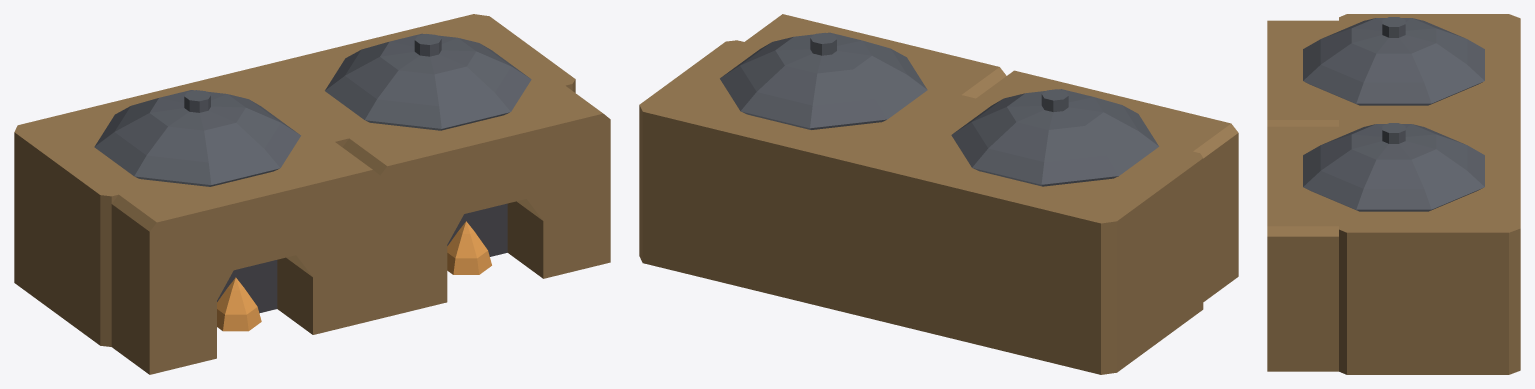
The model's file is fn_stove.glb.
3 views of the same model, side by side, from view 1: azimuth 30°, elevation 25°; view 2: azimuth 150°, elevation 25°; view 3: azimuth 270°, elevation 25° (orthographic). The views are drawn at different scales.
Parts seen in each view (by area): view 1: fn_stove__earth, fn_stove__metal, fn_stove__lantern, fn_stove__stone_dark; view 2: fn_stove__earth, fn_stove__metal; view 3: fn_stove__earth, fn_stove__metal.
Boxes of the visible parts, box(x1,y1,x2,y2) form: fn_stove__earth: box(14, 14, 610, 374); fn_stove__metal: box(94, 33, 531, 186); fn_stove__lantern: box(217, 221, 491, 331); fn_stove__stone_dark: box(217, 203, 507, 313); fn_stove__earth: box(639, 14, 1238, 374); fn_stove__metal: box(720, 32, 1158, 186); fn_stove__earth: box(1267, 14, 1520, 374); fn_stove__metal: box(1303, 17, 1484, 211).
Bounding box in the file's own units: 19.8 × 8.04 × 9.7.
